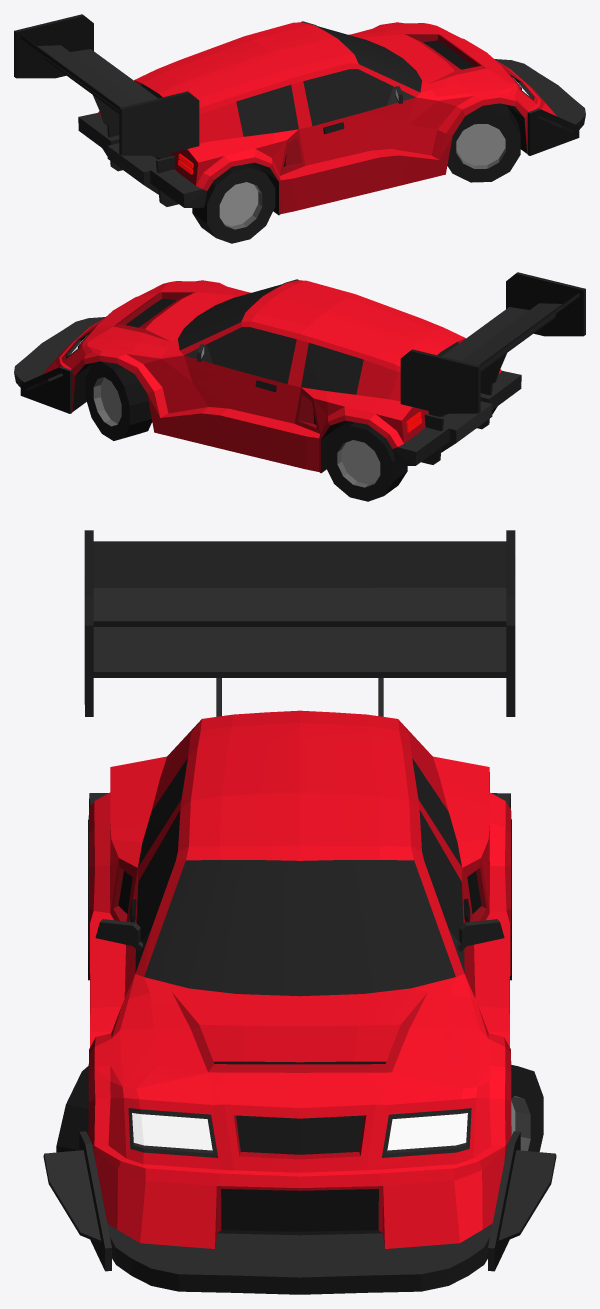
Rendered from RaceCar_014.glb.
3 renders of one model, top to bottom at view 1: azimuth 30°, elevation 25°; view 2: azimuth 150°, elevation 25°; view 3: azimuth 270°, elevation 25°, orthographic. The views are drawn at different scales.
Visible parts, largest first — view 1: RaceCar_014, wheel_3_RaceCar_014_Wheel_2R, wheel_1_RaceCar_014_Wheel_1R; view 2: RaceCar_014, wheel_2_RaceCar_014_Wheel_2L, wheel_0_RaceCar_014_Wheel_1L; view 3: RaceCar_014, wheel_0_RaceCar_014_Wheel_1L, wheel_1_RaceCar_014_Wheel_1R.
Boxes of the visible parts, <box> form: RaceCar_014: <box>14,14,585,215</box>; wheel_3_RaceCar_014_Wheel_2R: <box>192,163,275,243</box>; wheel_1_RaceCar_014_Wheel_1R: <box>447,103,520,182</box>; RaceCar_014: <box>14,272,585,473</box>; wheel_2_RaceCar_014_Wheel_2L: <box>324,421,407,501</box>; wheel_0_RaceCar_014_Wheel_1L: <box>85,362,152,440</box>; RaceCar_014: <box>43,530,556,1294</box>; wheel_0_RaceCar_014_Wheel_1L: <box>511,1065,543,1151</box>; wheel_1_RaceCar_014_Wheel_1R: <box>56,1066,88,1152</box>.
Size of the model in its own units: 5.26 by 1.66 by 2.38.
3 materials, 3 textured.
